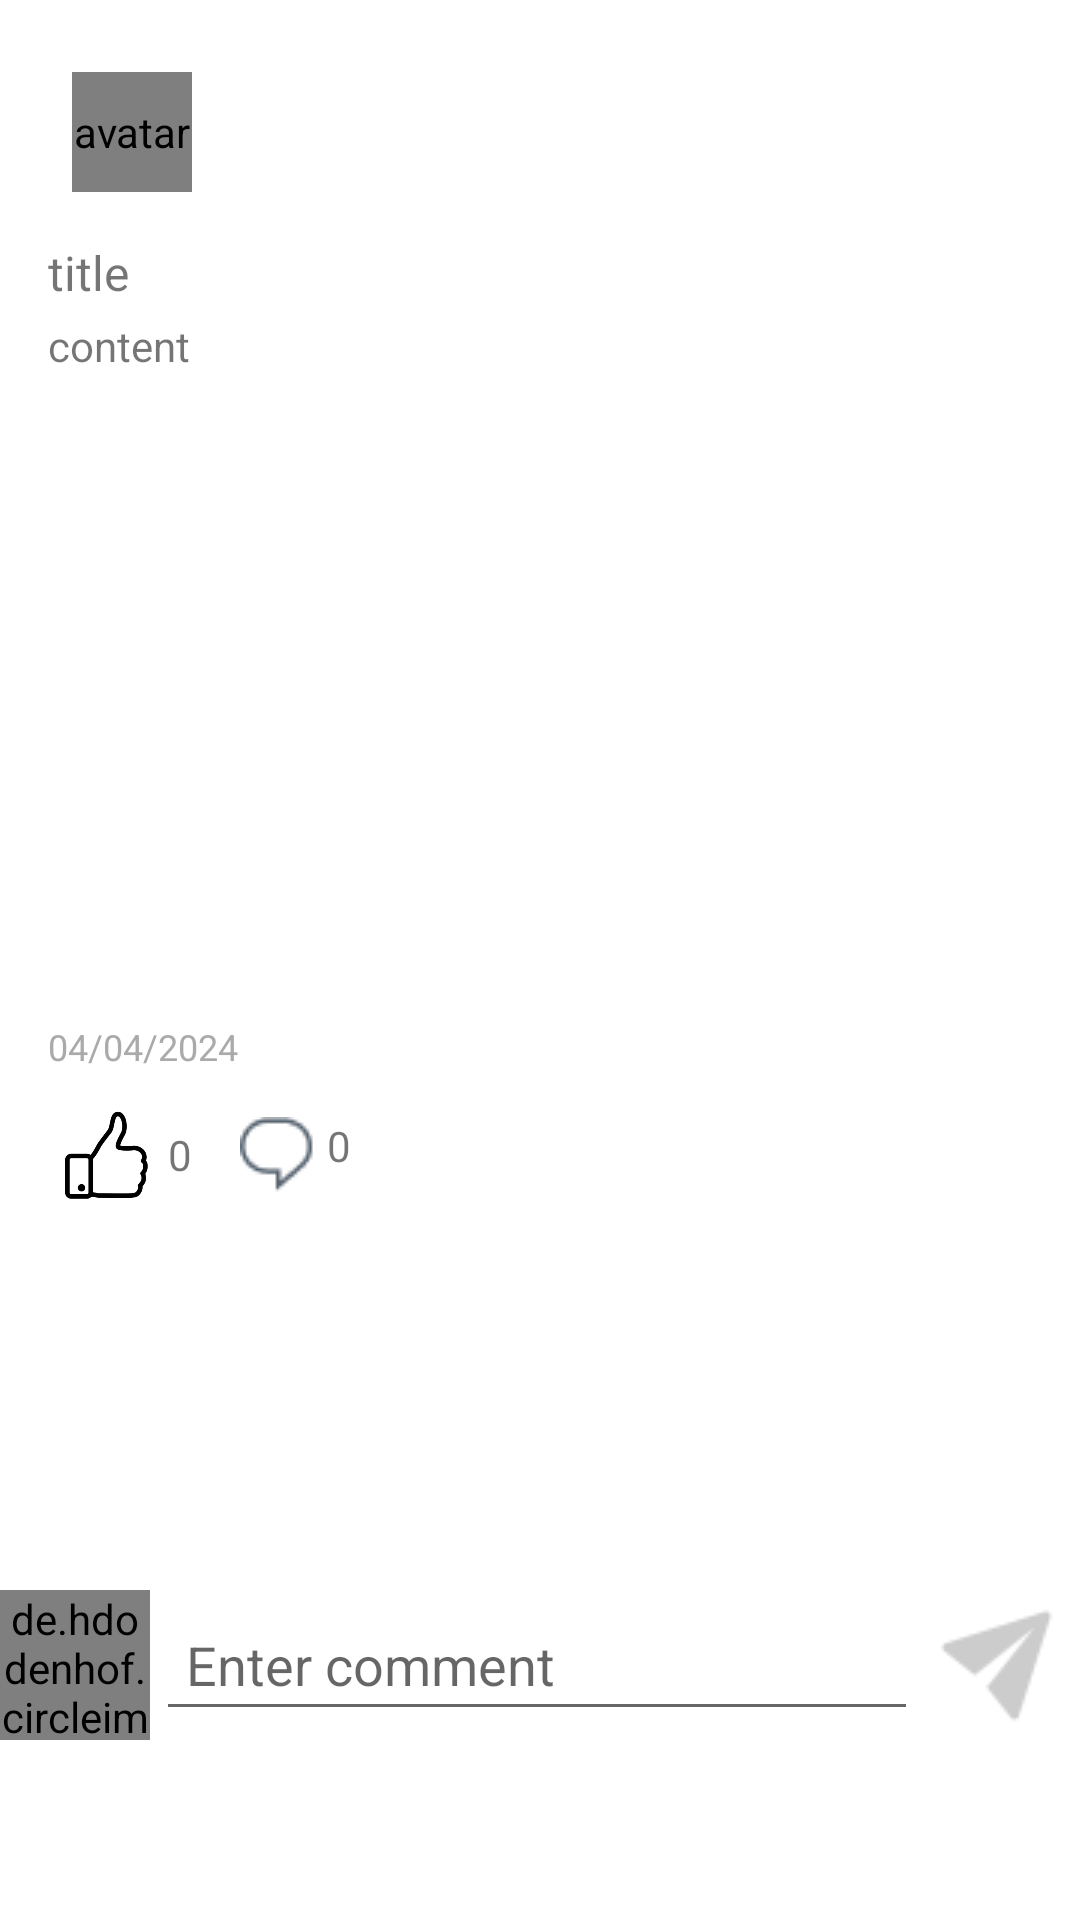

Screen size 1080 x 1920. Icon name, then its center in pixels as point (x, y):
like: point (106, 1155)
send comment: point (996, 1665)
